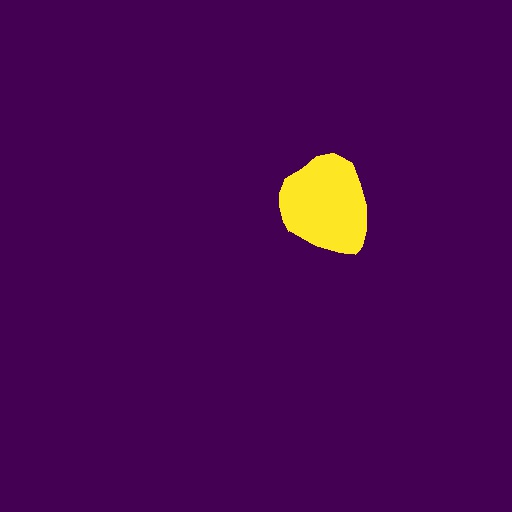Gliomia_tumour: (279, 153, 367, 255)
